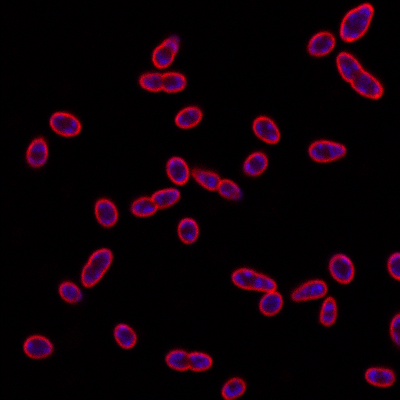Mecillinam: (335, 51, 385, 101), (339, 1, 379, 43), (129, 187, 181, 217), (80, 246, 115, 289), (230, 265, 278, 292), (137, 71, 187, 94), (163, 350, 213, 373), (307, 137, 349, 163), (286, 278, 328, 303), (251, 116, 283, 146), (328, 252, 356, 285), (48, 111, 82, 138), (20, 334, 54, 361), (91, 197, 119, 229), (165, 154, 191, 188), (23, 137, 49, 169), (242, 150, 271, 178), (306, 30, 336, 57), (362, 365, 397, 388), (112, 321, 138, 351), (171, 105, 203, 129), (255, 291, 283, 317), (175, 218, 200, 246), (317, 295, 339, 326), (218, 377, 247, 400)
Oblique: (190, 164, 245, 204), (149, 31, 181, 69), (57, 278, 85, 305)
